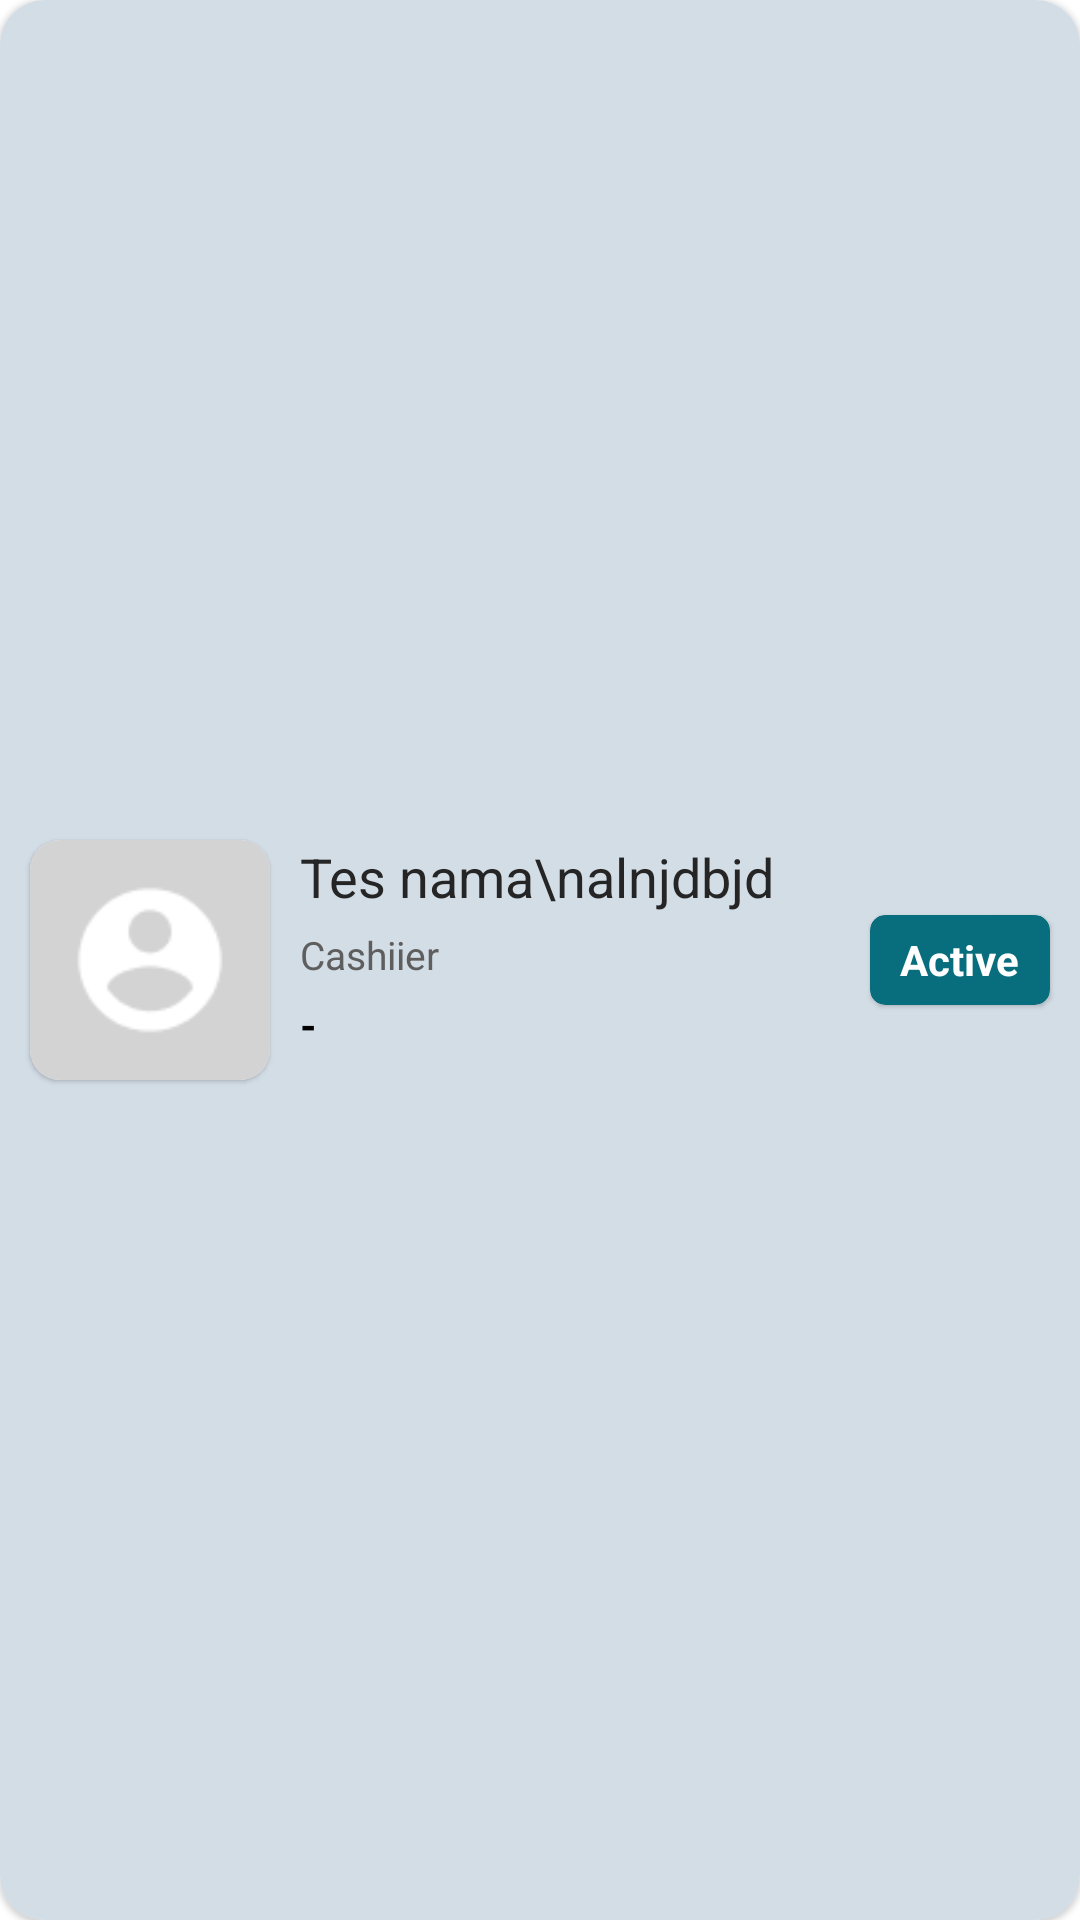

Icons on this 1080*1920 Android screen, each with the point to tap as [x,y]:
no photo cashier: [150,960]
